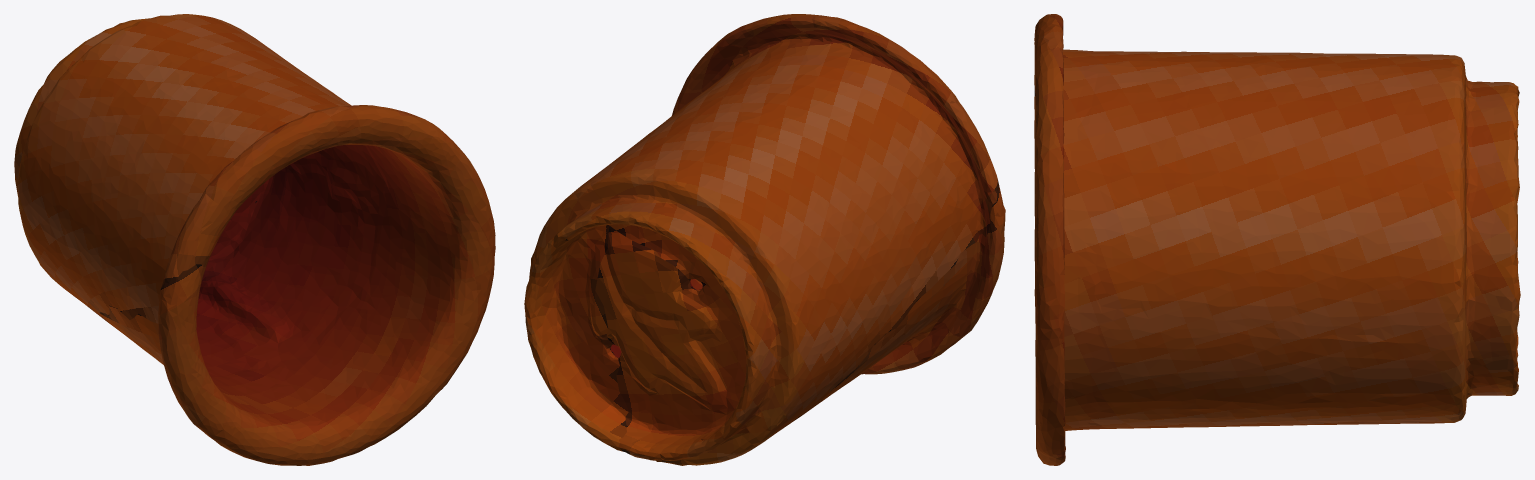
3 renders of one model, left to right at view 1: azimuth 30°, elevation 25°; view 2: azimuth 150°, elevation 25°; view 3: azimuth 270°, elevation 25°, orthographic. The views are drawn at different scales.
Visible parts, largest first — view 1: textured.obj; view 2: textured.obj; view 3: textured.obj.
Part boxes in pixels (x1=…): textured.obj: x1=14, y1=14, x2=495, y2=465; textured.obj: x1=524, y1=14, x2=1005, y2=465; textured.obj: x1=1034, y1=14, x2=1520, y2=465.
Size of the model in its own units: 0.0574 by 0.0574 by 0.0615.
1 material, 1 textured.
